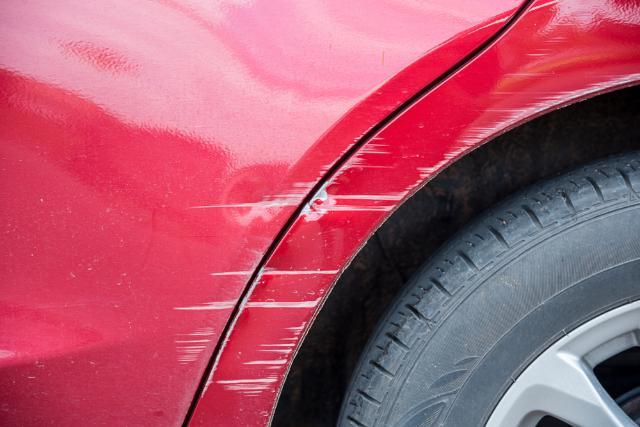dent: (225, 165, 292, 225)
scratch: (204, 38, 640, 401), (169, 254, 257, 376), (287, 120, 376, 216)
